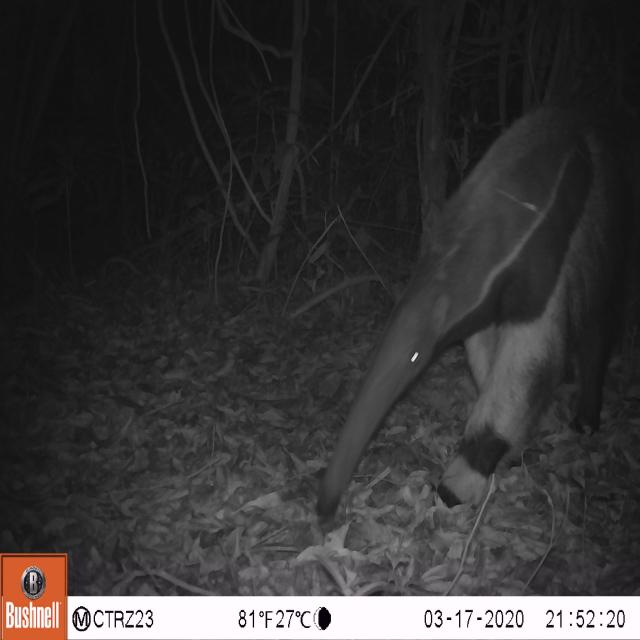Giant Anteater: (312, 85, 640, 526)
